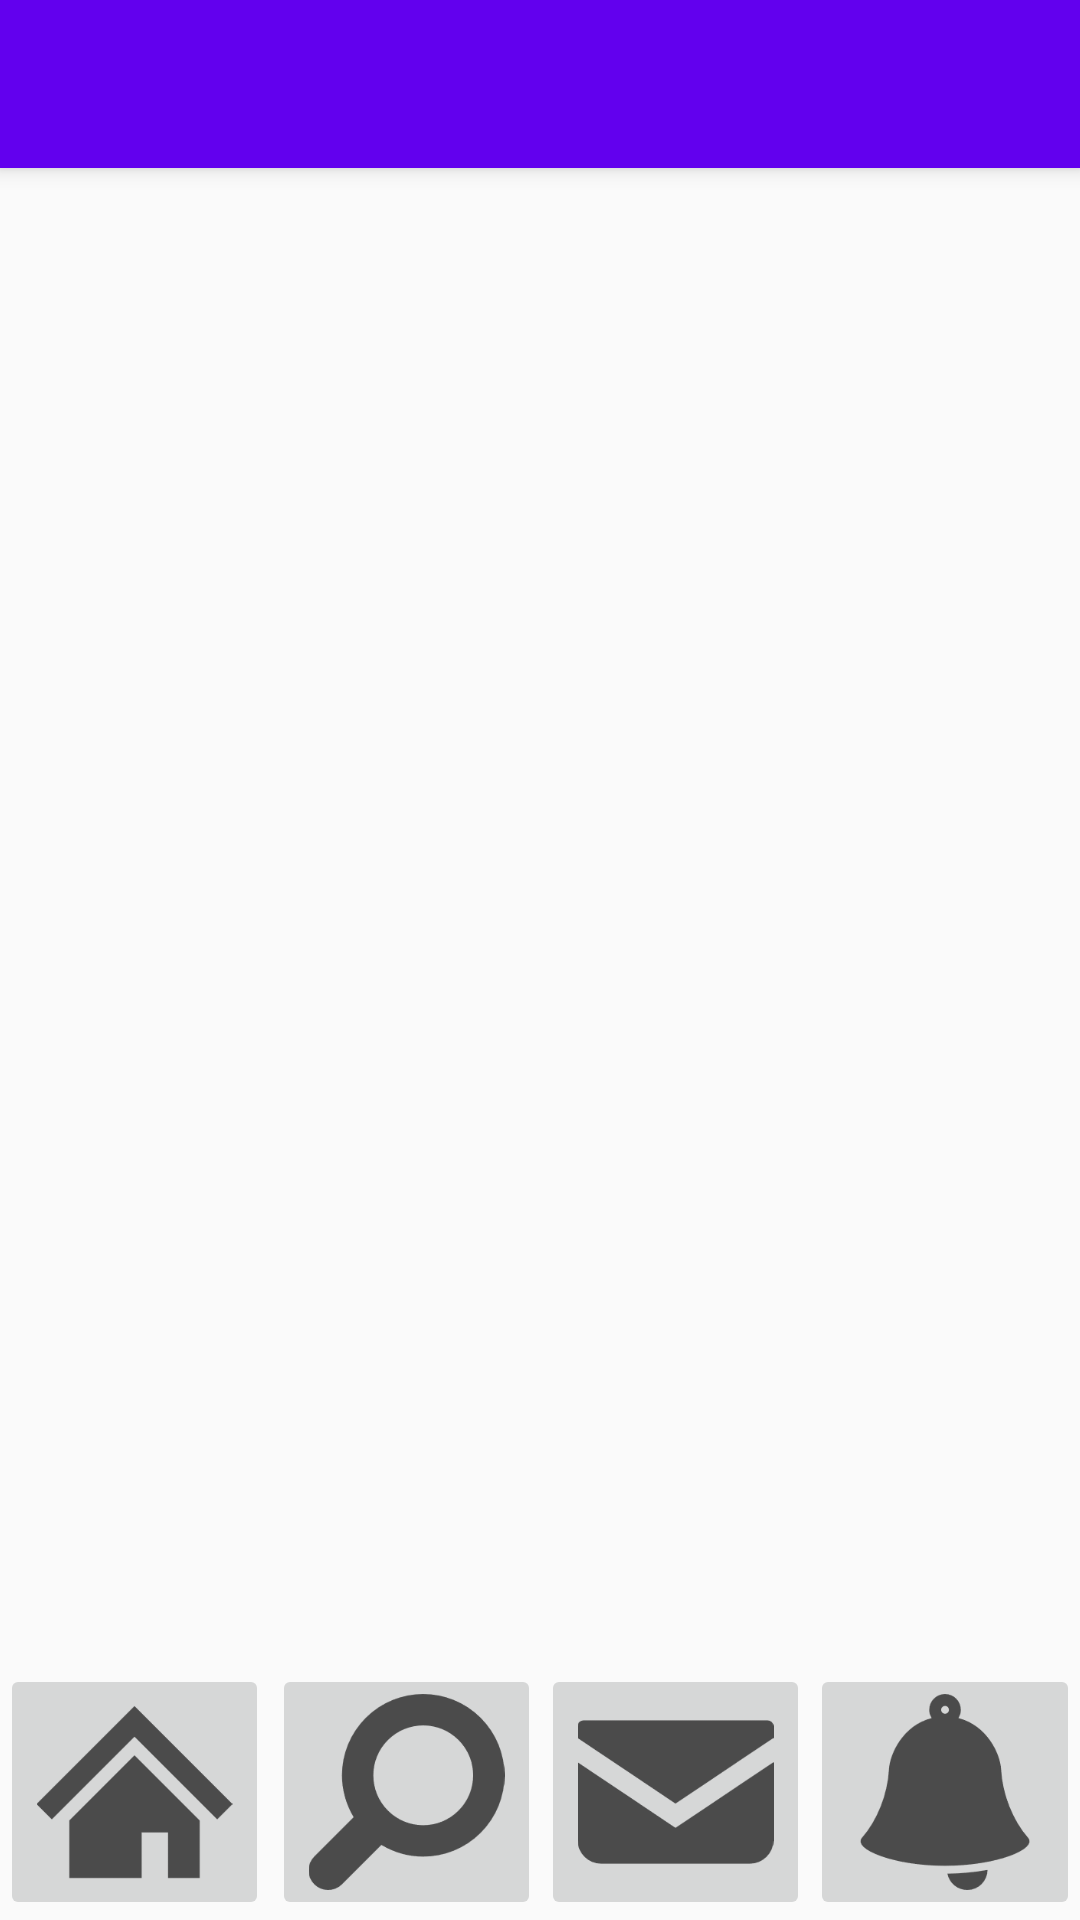

Where icons sit on this 1080x1920 app screen, as detection(x1, y1, x2, y2):
bell: detection(822, 1682, 1068, 1902)
home: detection(12, 1682, 257, 1902)
mail: detection(553, 1682, 798, 1902)
search: detection(284, 1682, 529, 1902)
